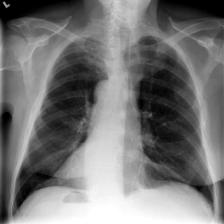normal: (11, 32, 218, 217)
